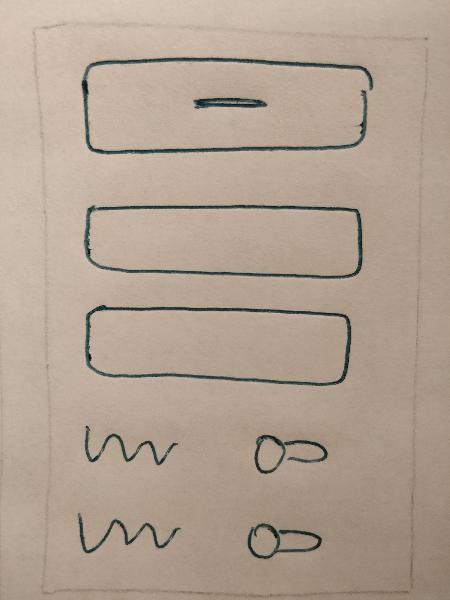button: (74, 52, 379, 161)
switch: (247, 420, 332, 484), (242, 506, 327, 570)
text: (74, 417, 185, 479), (72, 500, 183, 562)
text_input: (79, 195, 369, 290), (74, 298, 364, 393)
